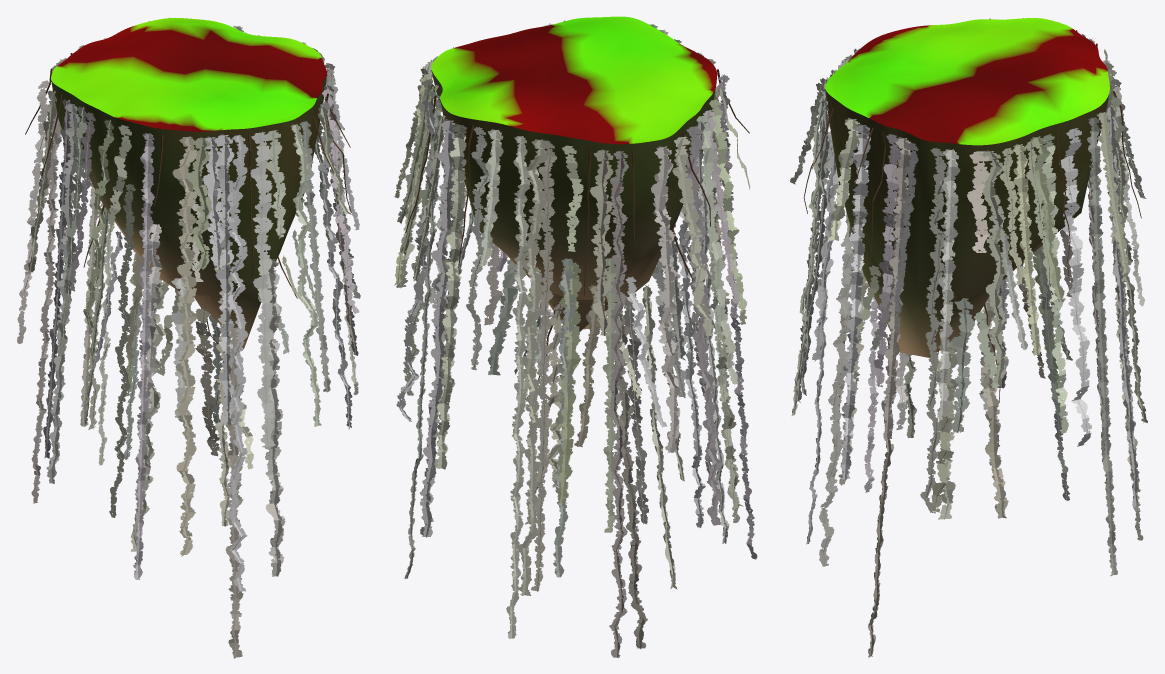
File: SM_H11_Floater04.fbx
3 renders of one model, left to right at view 1: azimuth 30°, elevation 25°; view 2: azimuth 150°, elevation 25°; view 3: azimuth 270°, elevation 25°, orthographic. The views are drawn at different scales.
Parts seen in each view (by area): view 1: SM_H11_Floater04_Ivy, SM_H11_Floater04; view 2: SM_H11_Floater04_Ivy, SM_H11_Floater04; view 3: SM_H11_Floater04_Ivy, SM_H11_Floater04.
Boxes of the visible parts, <box> form: SM_H11_Floater04_Ivy: <box>17,17,360,658</box>; SM_H11_Floater04: <box>51,17,326,348</box>; SM_H11_Floater04_Ivy: <box>394,20,757,657</box>; SM_H11_Floater04: <box>431,16,717,331</box>; SM_H11_Floater04_Ivy: <box>790,18,1147,657</box>; SM_H11_Floater04: <box>825,18,1109,357</box>.
Size of the model in its own units: 21.01 by 37.25 by 20.51.
